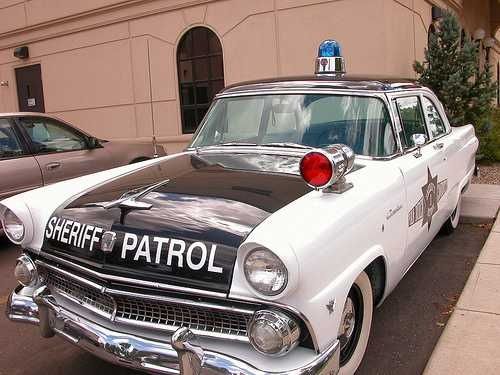Police Car: (37, 40, 491, 375)
